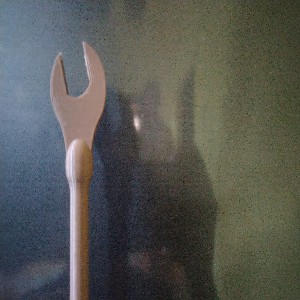spanner: (48, 41, 105, 300)
